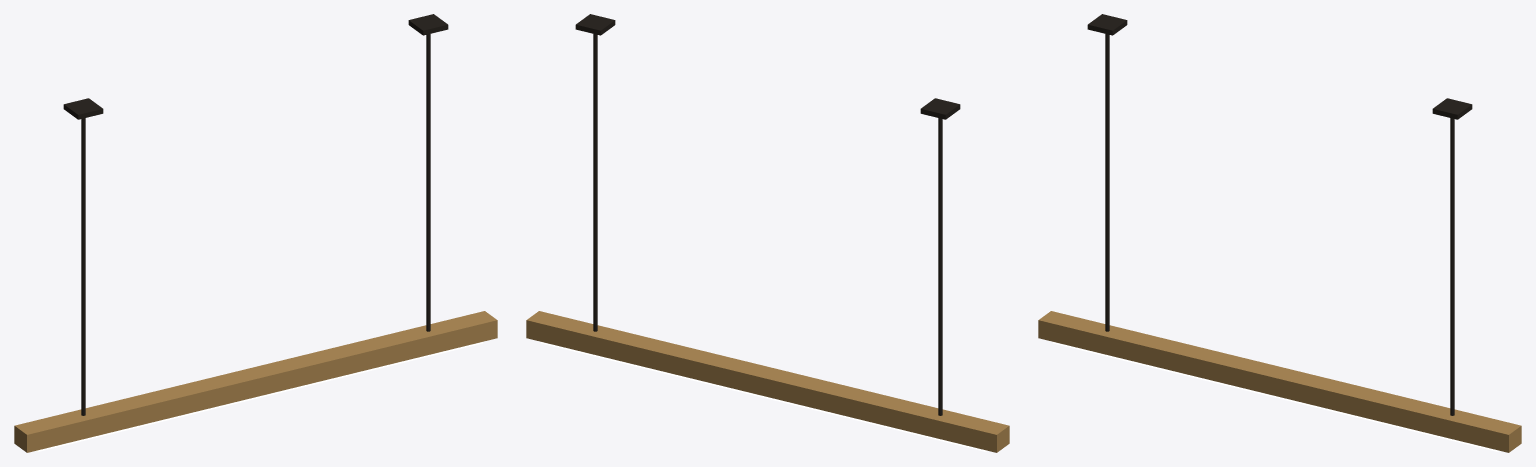
The picture shows the model from 3 angles, left to right: view 1: azimuth 30°, elevation 25°; view 2: azimuth 150°, elevation 25°; view 3: azimuth 330°, elevation 25°; orthographic projection.
Visible parts, largest first — view 1: pendant; view 2: pendant; view 3: pendant.
Part boxes in pixels (left/top/right/bottom): pendant: left=14, top=14, right=497, bottom=452; pendant: left=526, top=14, right=1009, bottom=452; pendant: left=1038, top=14, right=1521, bottom=452.
Bounding box in the file's own units: 1.5 × 1.01 × 0.08.
